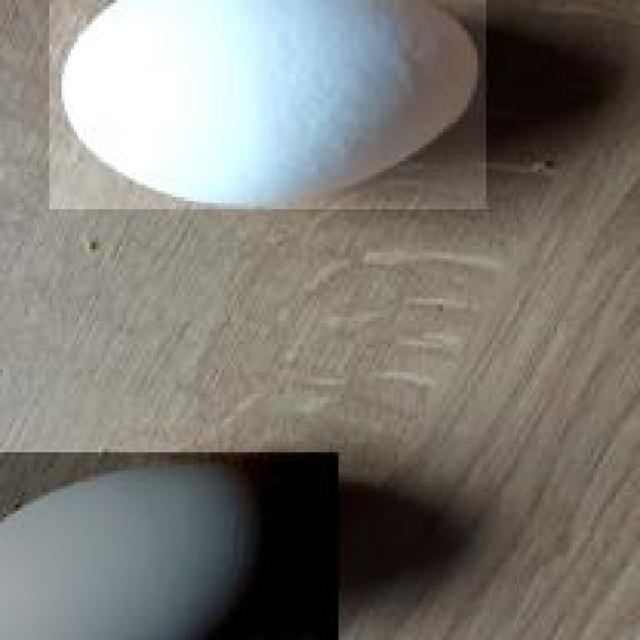egg: (46, 0, 486, 212), (0, 452, 339, 639)
